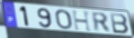1: (19, 6, 30, 28)
9: (37, 8, 54, 30)
B: (110, 13, 130, 35)
H: (71, 10, 93, 32)
O: (54, 9, 73, 31)
R: (91, 12, 113, 34)
